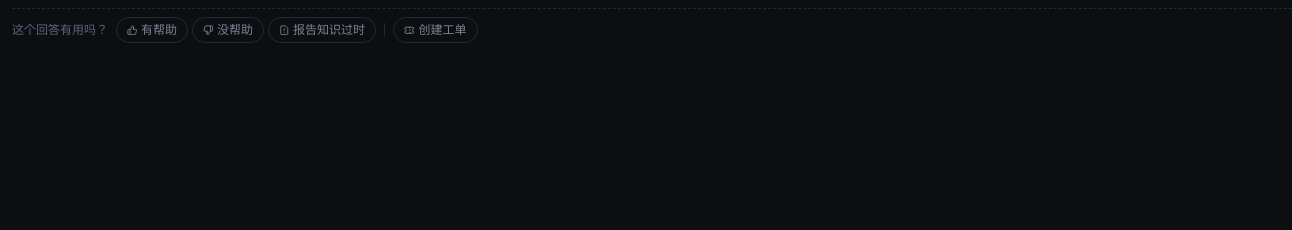
Scenario: FeedbackRow › ticket 200 already_exists renders the existing number + info toast (一消息一单)
Step 1. Click the button with test id "feedback-ticket" → point(435, 30), box [393,17,478,43]
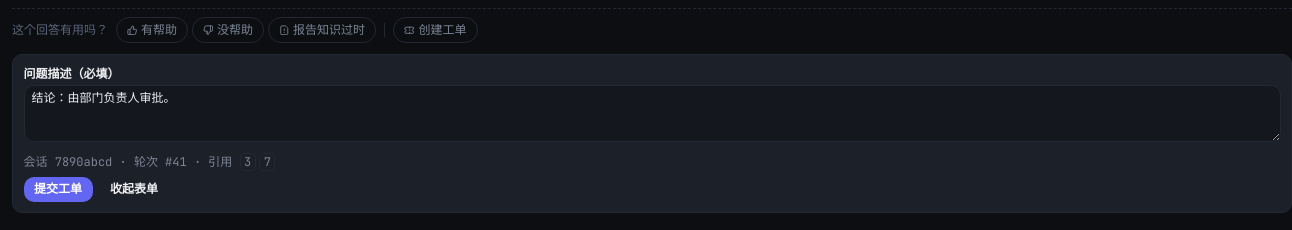
Step 2. Click the button with test id "feedback-ticket-submit" → point(58, 189), box [24,177,92,202]
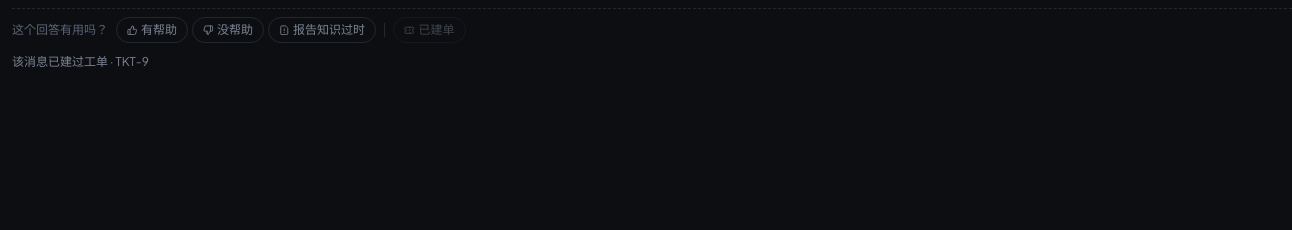
Result: the element with test id "feedback-ticket-result" reads "该消息已建过工单 · TKT-9" at [12,54,149,69]
Result: the button with test id "feedback-ticket" is disabled at [393,17,466,43]
Result: the button with test id "feedback-ticket" reads "已建单" at [393,17,466,43]
